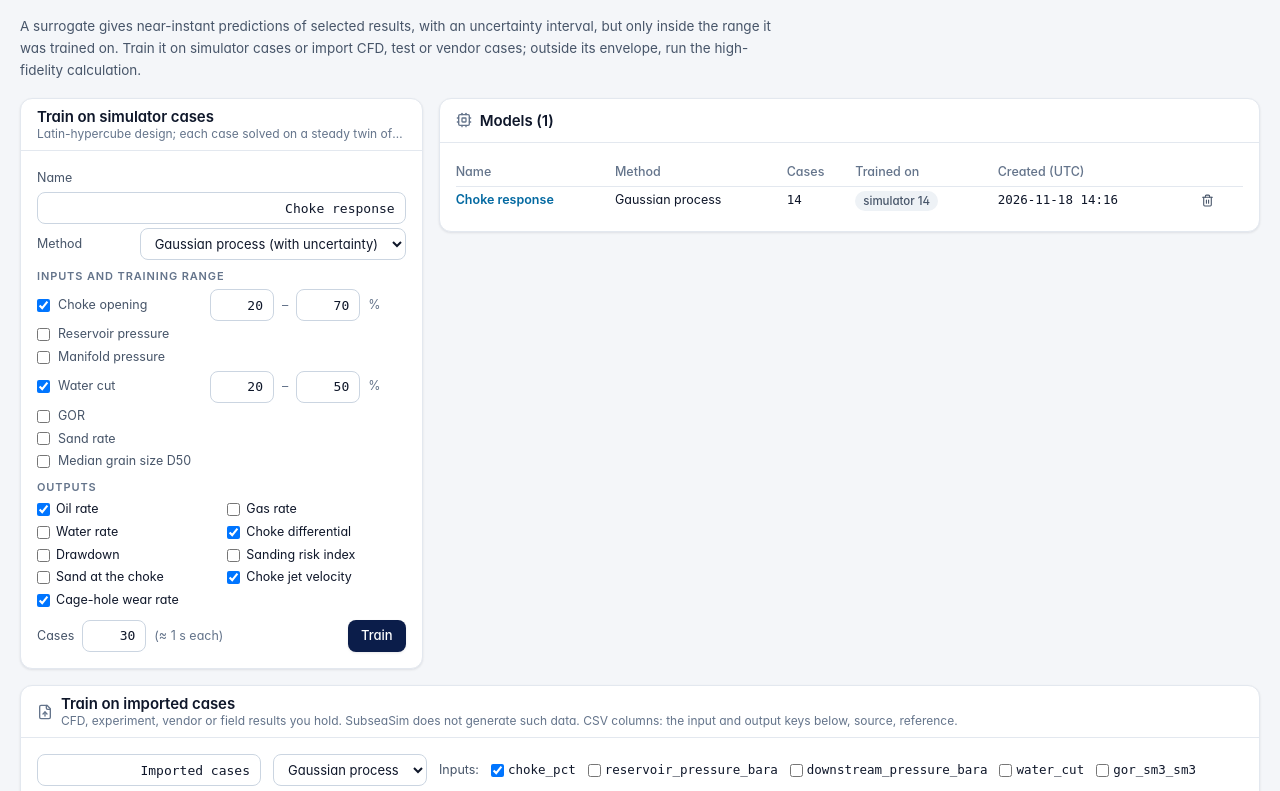
Test case: Surrogate models page › flags a point outside the envelope and checks it against the simulator
Later steps or results of the test are not shown.
Click the button "Choke response". click: [505, 201]
box: [456, 191, 554, 210]
(page scrolled)
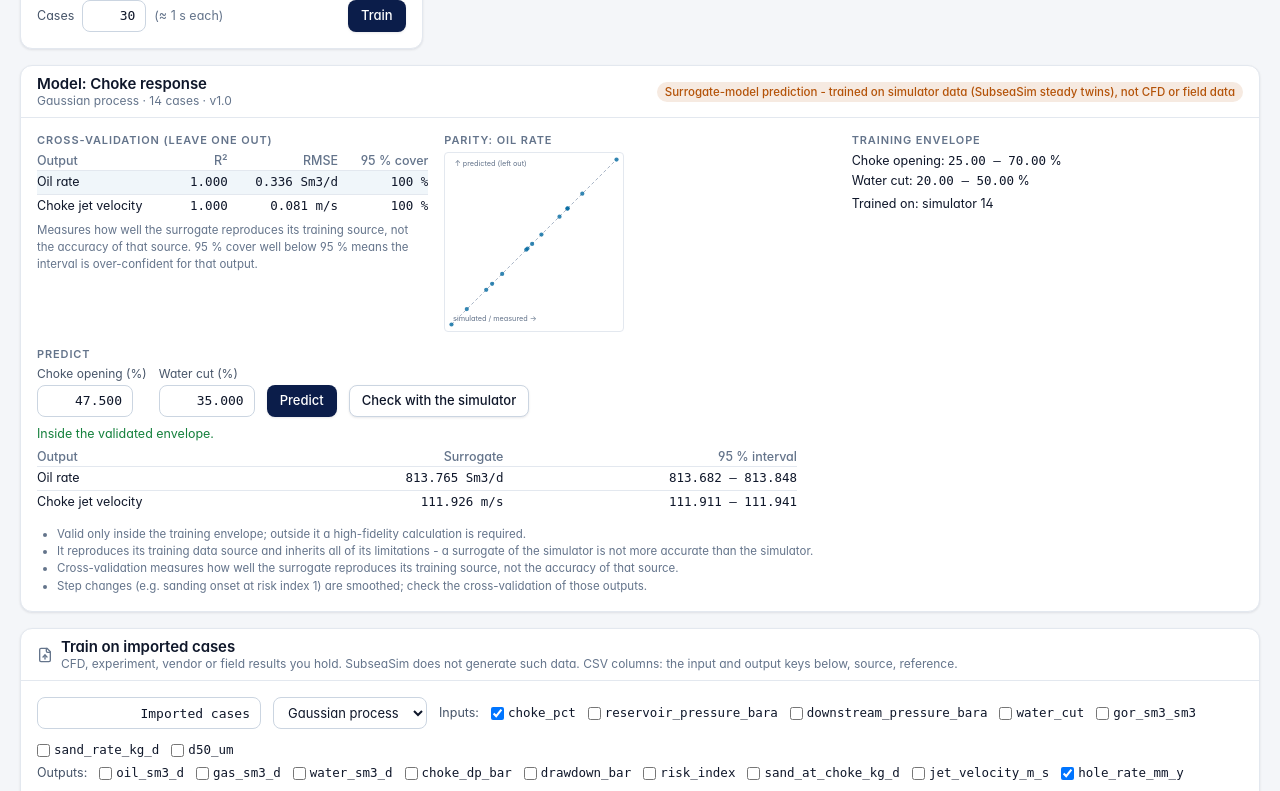
Replace the text in the field named "predict Choke opening" with "90". click: [85, 401]
box: [37, 385, 133, 417]
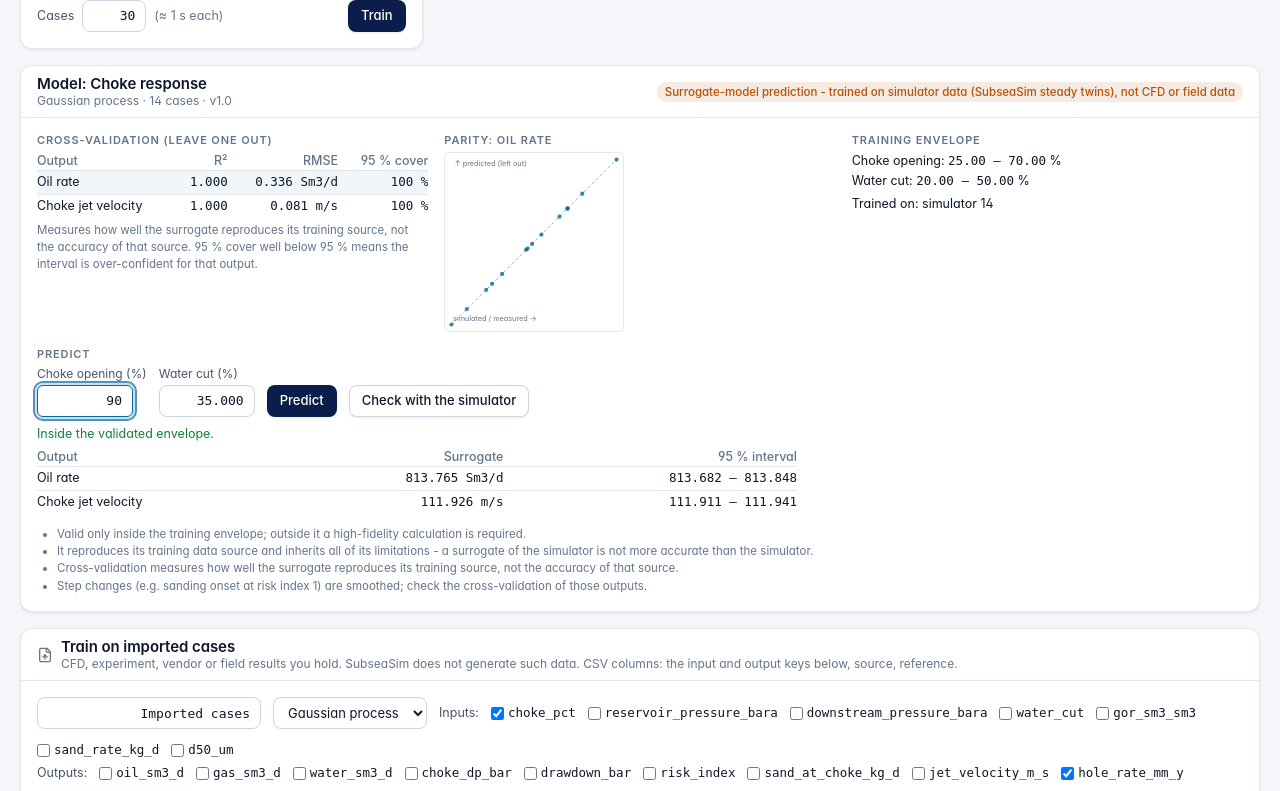
Click the button with test id "surrogate-predict". click: [302, 401]
box: [267, 385, 337, 417]
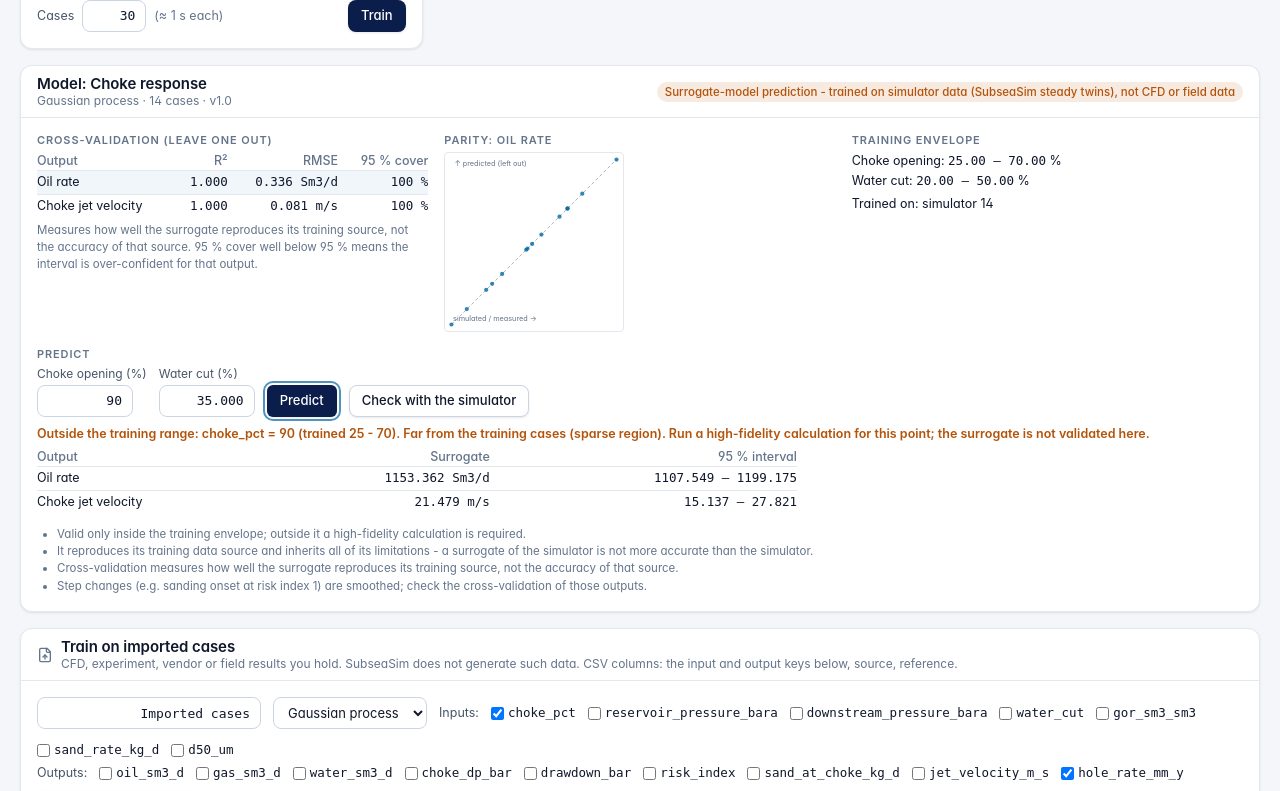
Expected: the text with test id "surrogate-envelope" shows "Outside the training range", [37, 426, 1150, 441]
